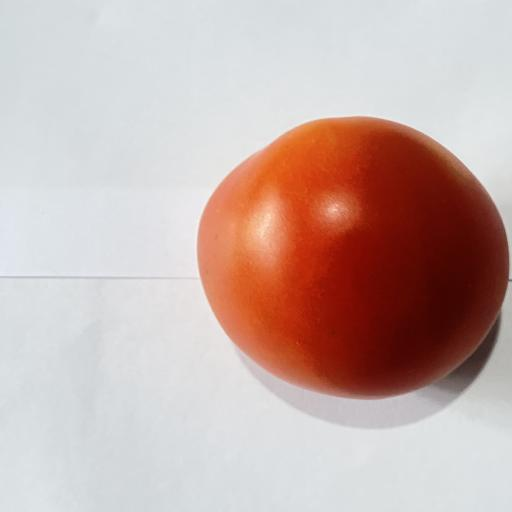ripe: (197, 117, 508, 398)
